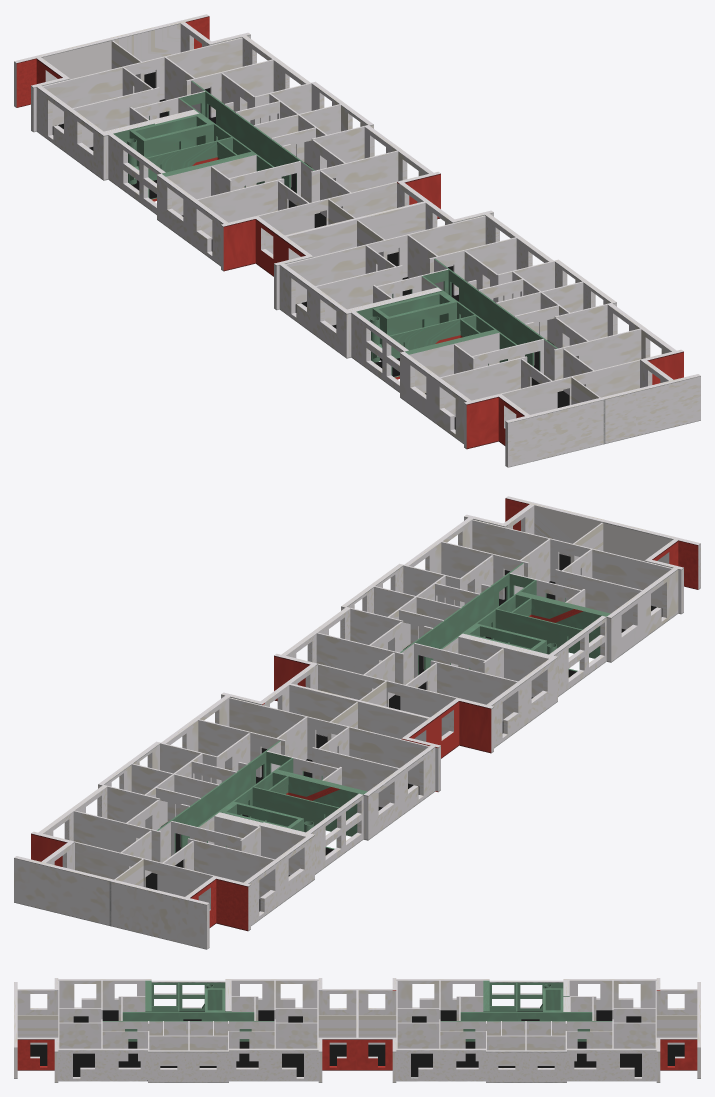
File: Floor_3-16.fbx
3 views of the same model, one above another, from view 1: azimuth 30°, elevation 25°; view 2: azimuth 150°, elevation 25°; view 3: azimuth 270°, elevation 25° (orthographic). The views are drawn at different scales.
Parts seen in each view (by area): view 1: Walls_inside_3_rooms_L.064, Walls_inside_3_rooms_R.072, Wall_side_north.012, Wall_side_south.012, Walls_inside_3_rooms_L.072, Wall_separator.006, Walls_inside_3_rooms_R.064, Wall_kitchen_north_1.009, Wall_kitchen_north_2.014, Wall_side_north.011, Wall_kitchen_north_1.010, Wall_kitchen_north_2.013 (+48 smaller); view 2: Walls_inside_3_rooms_L.072, Walls_inside_3_rooms_R.064, Wall_side_north.011, Wall_side_south.011, Walls_inside_3_rooms_L.064, Wall_separator.006, Walls_inside_3_rooms_R.072, Wall_kitchen_north_1.010, Wall_kitchen_north_2.013, Wall_side_north.012, Wall_kitchen_north_1.009, Wall_kitchen_north_2.014 (+51 smaller); view 3: Floor.012, Floor.011, Wall_rooms_south_1.010, Wall_rooms_south_2.012, Wall_rooms_south_1.011, Wall_rooms_south_2.013, Wall_kitchen_south.011, Wall_kitchen_south.012, Wall_kitchen_north_1.009, Wall_kitchen_north_1.010, Wall_kitchen_north_2.013, Wall_kitchen_north_2.014 (+53 smaller).
Boxes of the visible parts, <box> form: Walls_inside_3_rooms_L.064: <box>42,37,242,126</box>; Walls_inside_3_rooms_R.072: <box>285,215,485,303</box>; Wall_side_north.012: <box>505,397,604,467</box>; Wall_side_south.012: <box>602,374,700,443</box>; Walls_inside_3_rooms_L.072: <box>501,359,639,419</box>; Wall_separator.006: <box>285,201,425,258</box>; Walls_inside_3_rooms_R.064: <box>239,176,419,253</box>; Wall_kitchen_north_1.009: <box>36,86,108,180</box>; Wall_kitchen_north_2.014: <box>279,263,351,358</box>; Wall_side_north.011: <box>14,37,112,107</box>; Wall_kitchen_north_1.010: <box>400,351,471,443</box>; Wall_kitchen_north_2.013: <box>157,173,228,266</box>; Walls_inside_3_rooms_L.072: <box>472,519,672,608</box>; Walls_inside_3_rooms_R.064: <box>229,697,429,785</box>; Wall_side_north.011: <box>110,879,209,949</box>; Wall_side_south.011: <box>14,856,112,925</box>; Walls_inside_3_rooms_L.064: <box>75,841,213,901</box>; Wall_separator.006: <box>289,683,429,740</box>; Walls_inside_3_rooms_R.072: <box>295,658,475,735</box>; Wall_kitchen_north_1.010: <box>606,568,678,662</box>; Wall_kitchen_north_2.013: <box>363,745,435,840</box>; Wall_side_north.012: <box>602,519,700,589</box>; Wall_kitchen_north_1.009: <box>243,833,314,925</box>; Wall_kitchen_north_2.014: <box>486,655,557,748</box>; Floor.012: <box>30,1010,346,1080</box>; Floor.011: <box>368,1010,684,1076</box>; Wall_rooms_south_1.010: <box>567,1048,656,1081</box>; Wall_rooms_south_2.012: <box>396,1048,485,1081</box>; Wall_rooms_south_1.011: <box>58,1048,147,1081</box>; Wall_rooms_south_2.013: <box>229,1048,318,1081</box>; Wall_kitchen_south.011: <box>486,1050,566,1082</box>; Wall_kitchen_south.012: <box>148,1050,228,1082</box>; Wall_kitchen_north_1.009: <box>563,979,656,1010</box>; Wall_kitchen_north_1.010: <box>58,979,151,1010</box>; Wall_kitchen_north_2.013: <box>396,979,489,1010</box>; Wall_kitchen_north_2.014: <box>225,979,318,1010</box>.
Size of the model in its own units: 1420 by 289 by 5588.
Materials: 6 (5 with a texture image).
